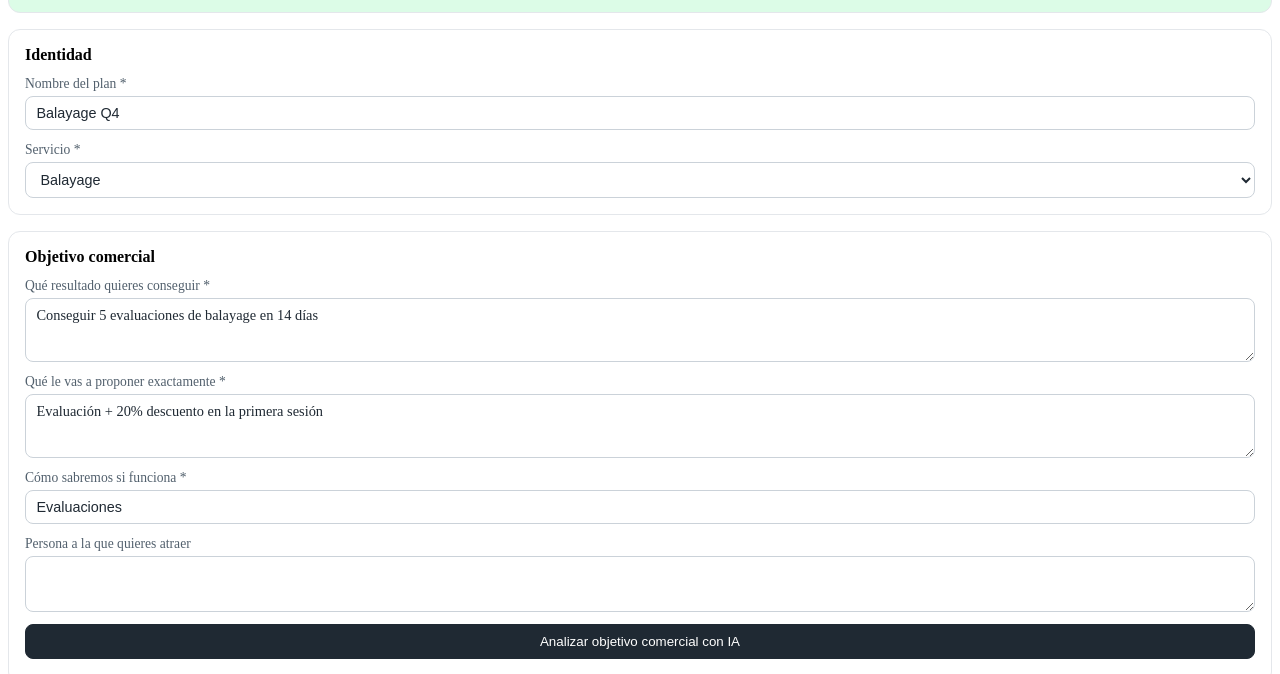
Test: CampaignBriefForm · Analizar objetivo comercial con IA › Aplicar stopIf rellena el textarea de stopIf y oculta la tarjeta
Click the button with test id "cb-suggest-rules" at {"x": 640, "y": 641}, box [25,624,1255,659]
(page scrolled)
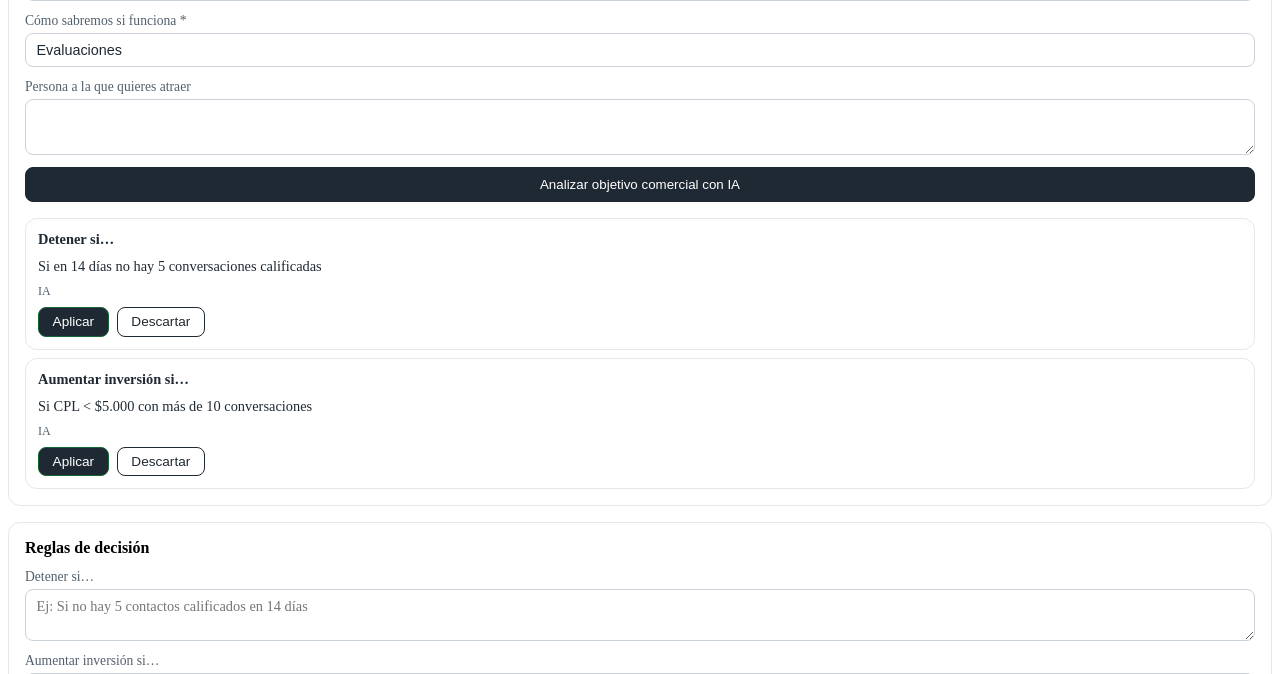
Click the 1st button "Aplicar" at {"x": 73, "y": 322}, box [38,307,109,337]
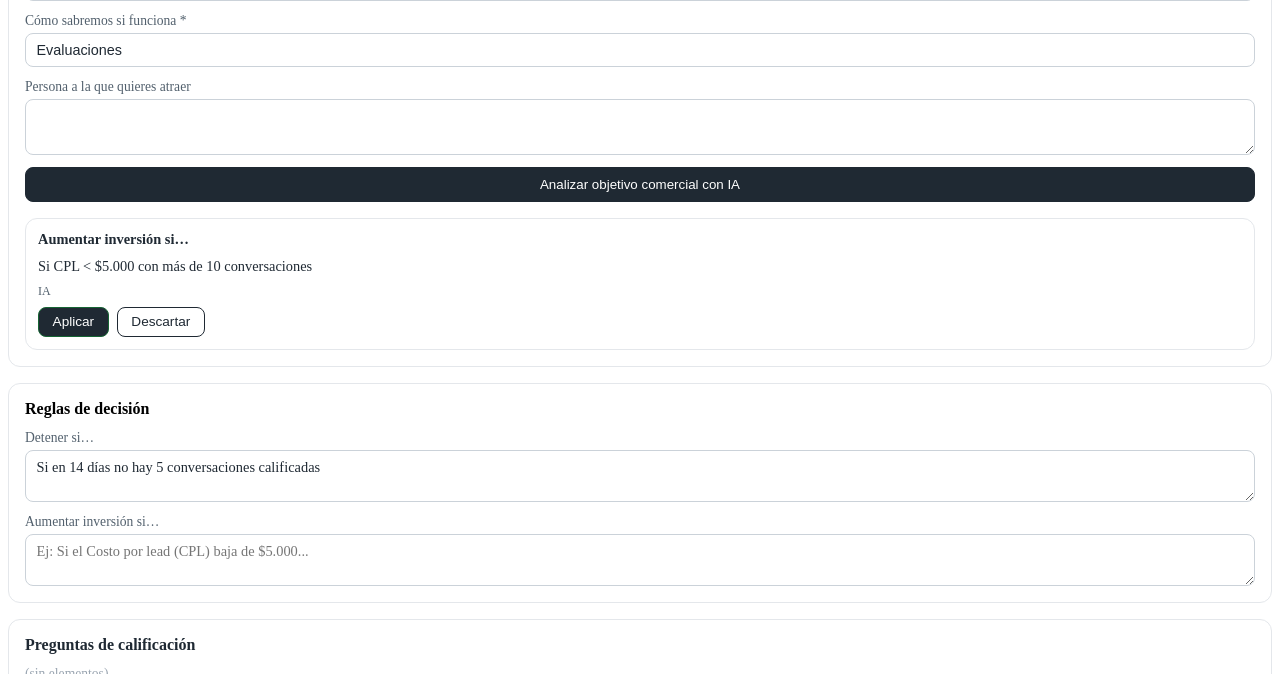
Now the text box labelled "Detener si…" holds "Si en 14 días no hay 5 conversaciones calificadas", box [25,450,1255,502]
Now the element with test id "cb-suggest-rules-stopIf" is gone
